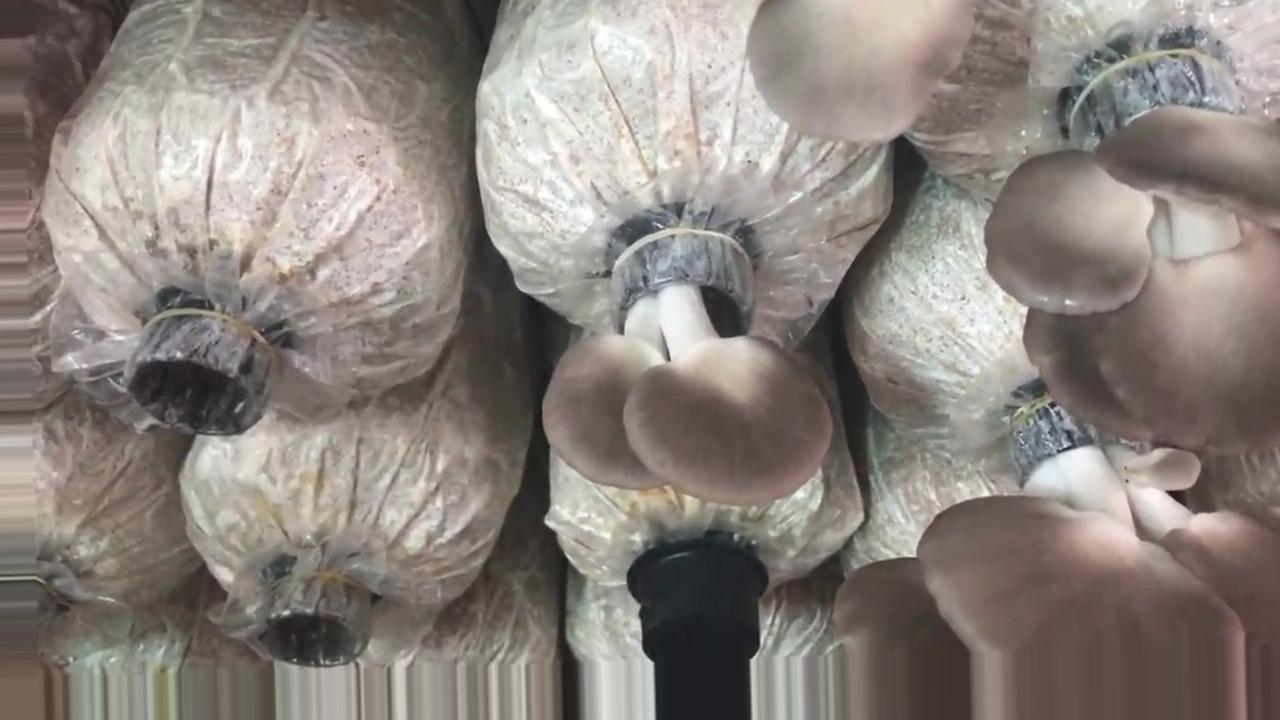nam: (835, 380, 1280, 718), (993, 57, 1280, 443), (541, 225, 823, 503), (749, 1, 972, 146)
